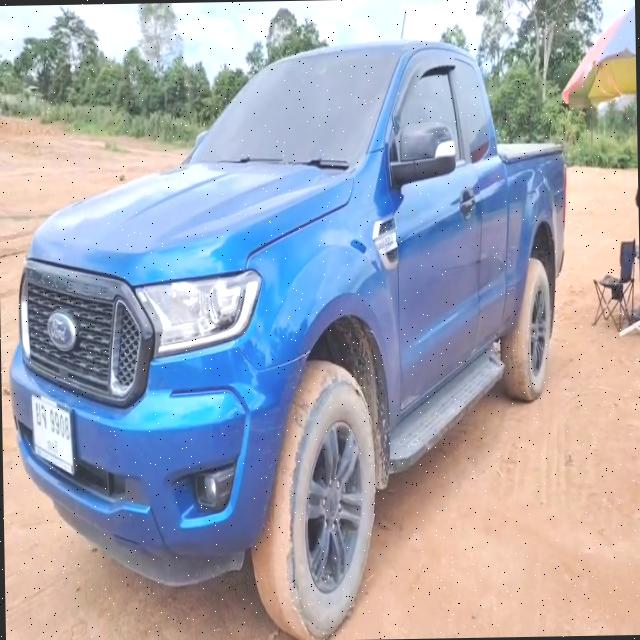Digit: (49, 407, 69, 440)
Licenseplate: (30, 392, 74, 476)
Provincename: (46, 437, 59, 457)
Thaichar: (34, 400, 48, 429)
